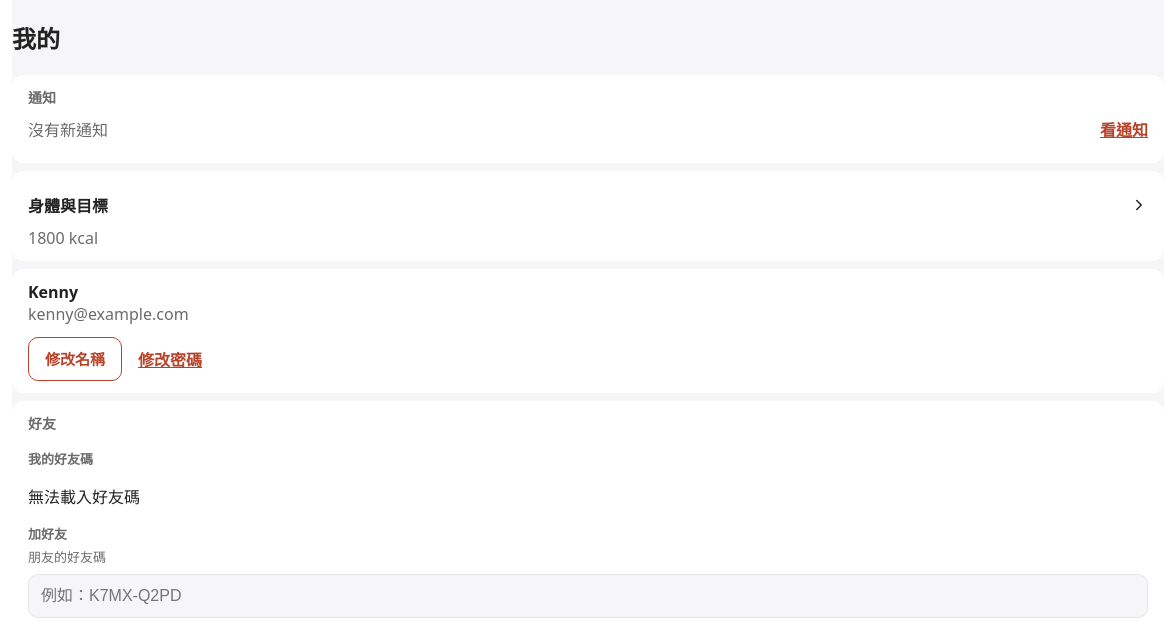
Test: 我的：帳號卡片 › 修改名稱：只送 display_name，存好之後畫面換成新名字，焦點回到「修改名稱」
The image size is (1164, 626).
Click the button "修改名稱".
click(75, 359)  # box x1=28 y1=337 x2=122 y2=381
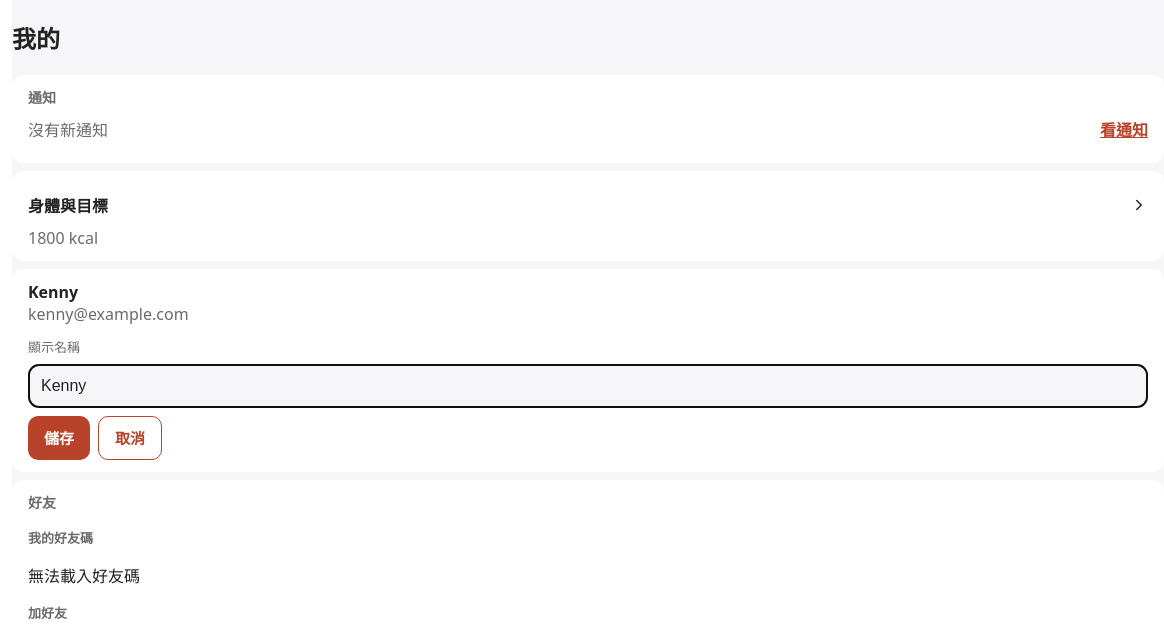
Expected: the field labelled "顯示名稱" holds "Kenny"
Replace the text in the field labelled "顯示名稱" with "  新名字 " at x=588, y=386, box x1=28 y1=364 x2=1148 y2=408
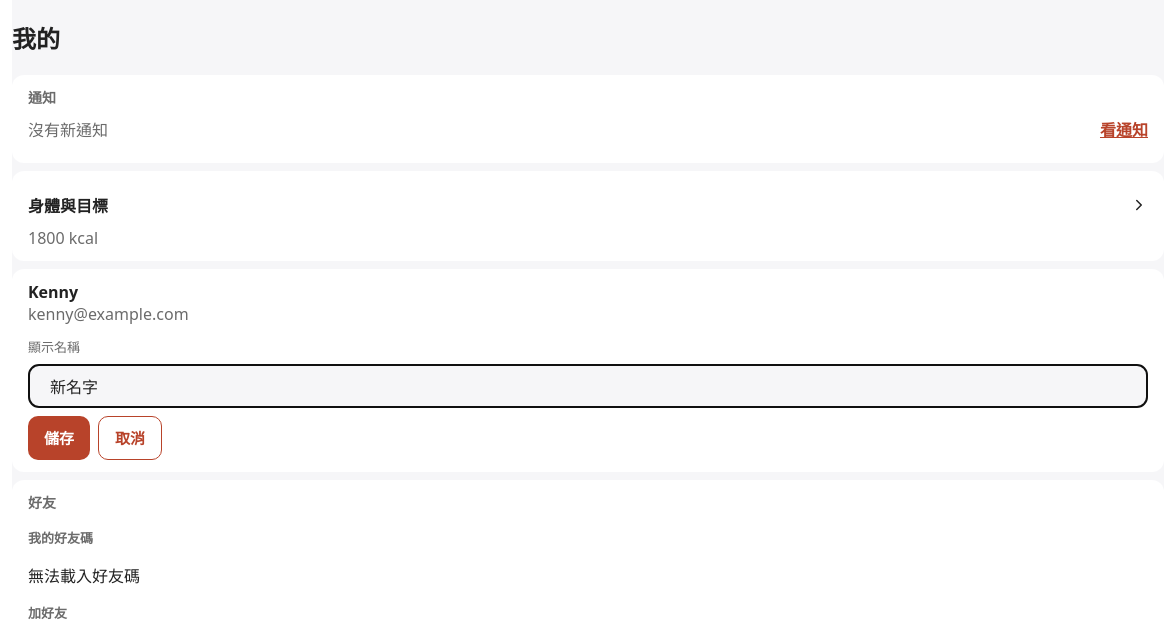
Click the button "儲存".
click(59, 438)  # box x1=28 y1=416 x2=90 y2=460
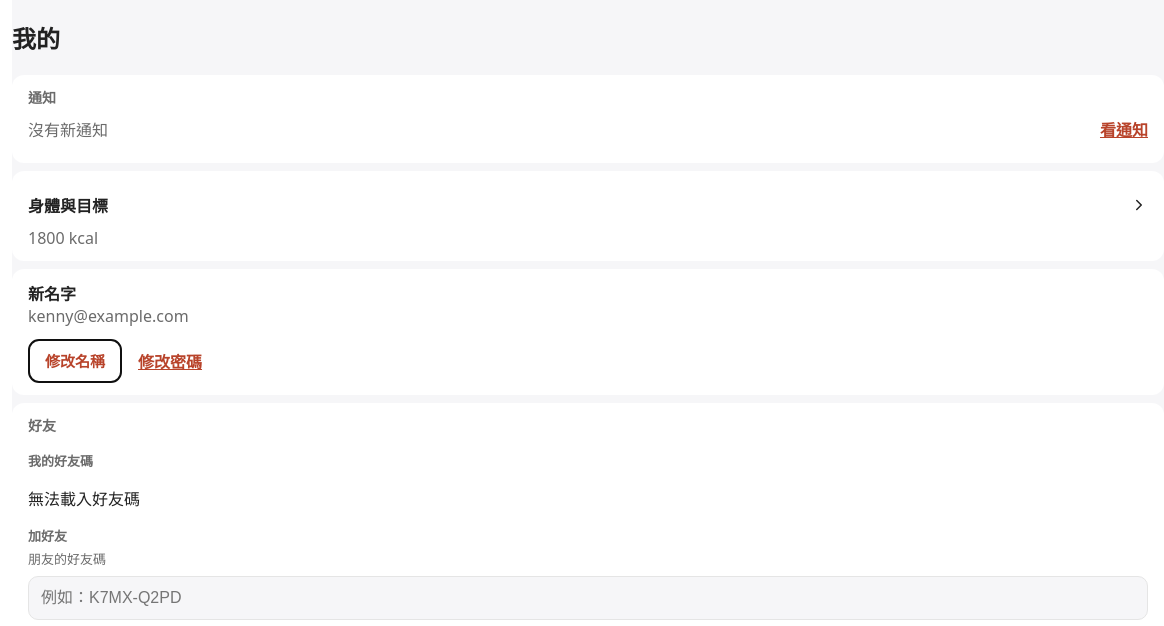
Expected: the text "新名字" is shown, x1=28 y1=283 x2=76 y2=305
